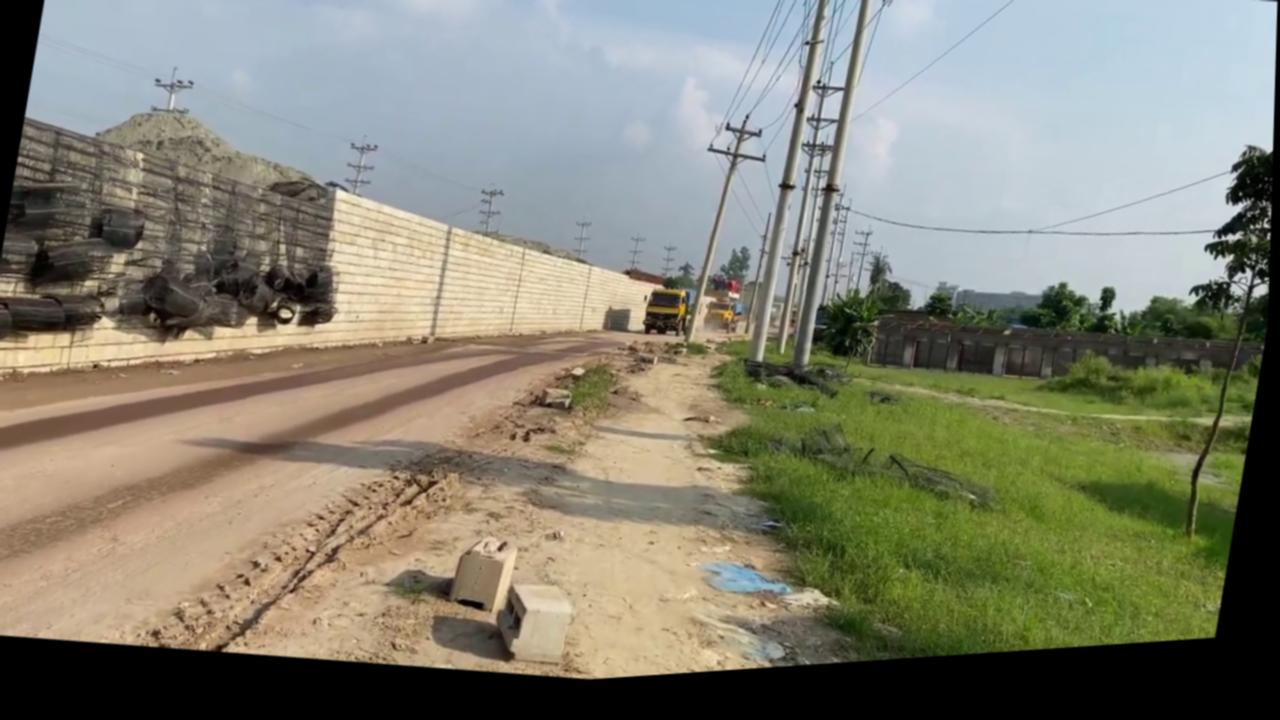Garbage: (0, 159, 353, 385)
Muddy road: (0, 228, 963, 720)
Obstacle: (494, 582, 580, 675), (448, 536, 522, 624)
Pole: (790, 0, 880, 384), (746, 0, 837, 376)
Traffic-sign: (1150, 144, 1275, 562)
Tree: (700, 281, 749, 345), (641, 292, 694, 349), (707, 280, 746, 311)
Upstairs: (0, 80, 692, 466), (862, 304, 1266, 434)
